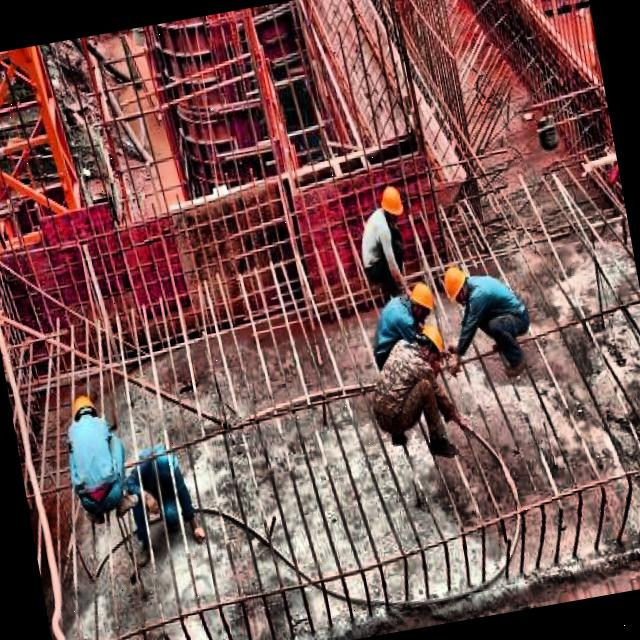helmet: (400, 274, 441, 320), (62, 384, 101, 431), (411, 320, 448, 368), (438, 260, 472, 308), (375, 177, 408, 225), (146, 436, 180, 477)
